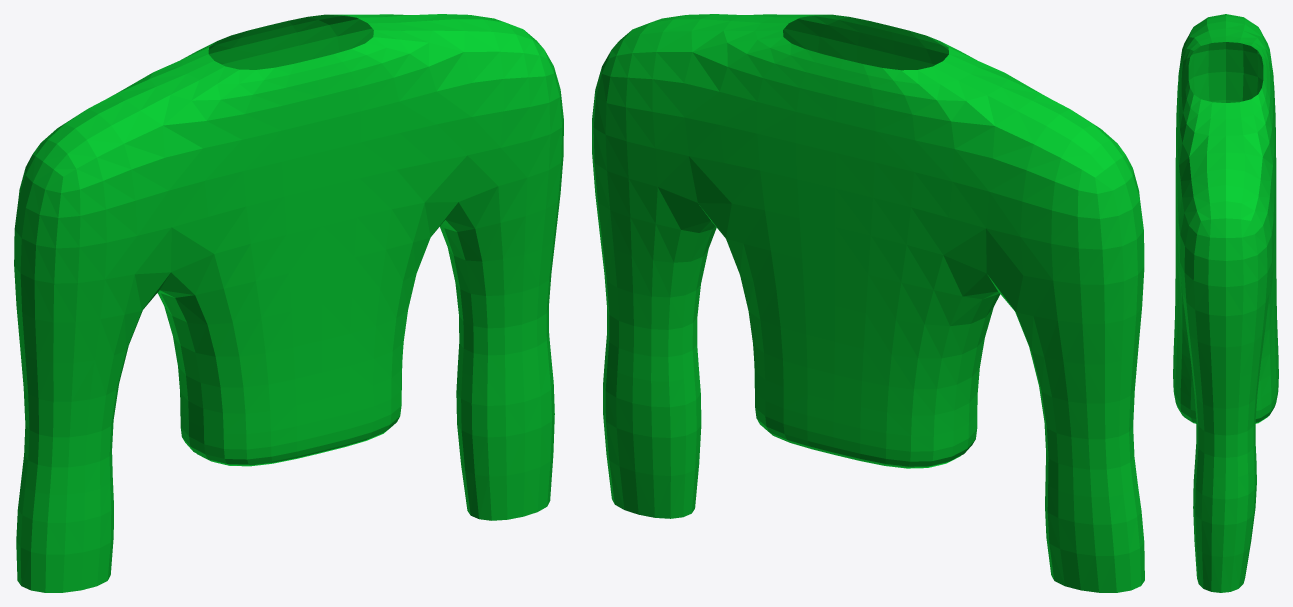
File: SSSPSpamtonCian.obj
The picture shows the model from 3 angles, left to right: view 1: azimuth 30°, elevation 25°; view 2: azimuth 150°, elevation 25°; view 3: azimuth 270°, elevation 25°; orthographic projection. The views are drawn at different scales.
Parts seen in each view (by area): view 1: Cian_Cube.024; view 2: Cian_Cube.024; view 3: Cian_Cube.024.
Boxes of the visible parts, box(x1,y1,x2,y2) form: Cian_Cube.024: box(14, 14, 563, 592); Cian_Cube.024: box(592, 14, 1144, 592); Cian_Cube.024: box(1173, 14, 1278, 592).
Bounding box in the file's own units: 1.23 × 1.13 × 0.2575.
